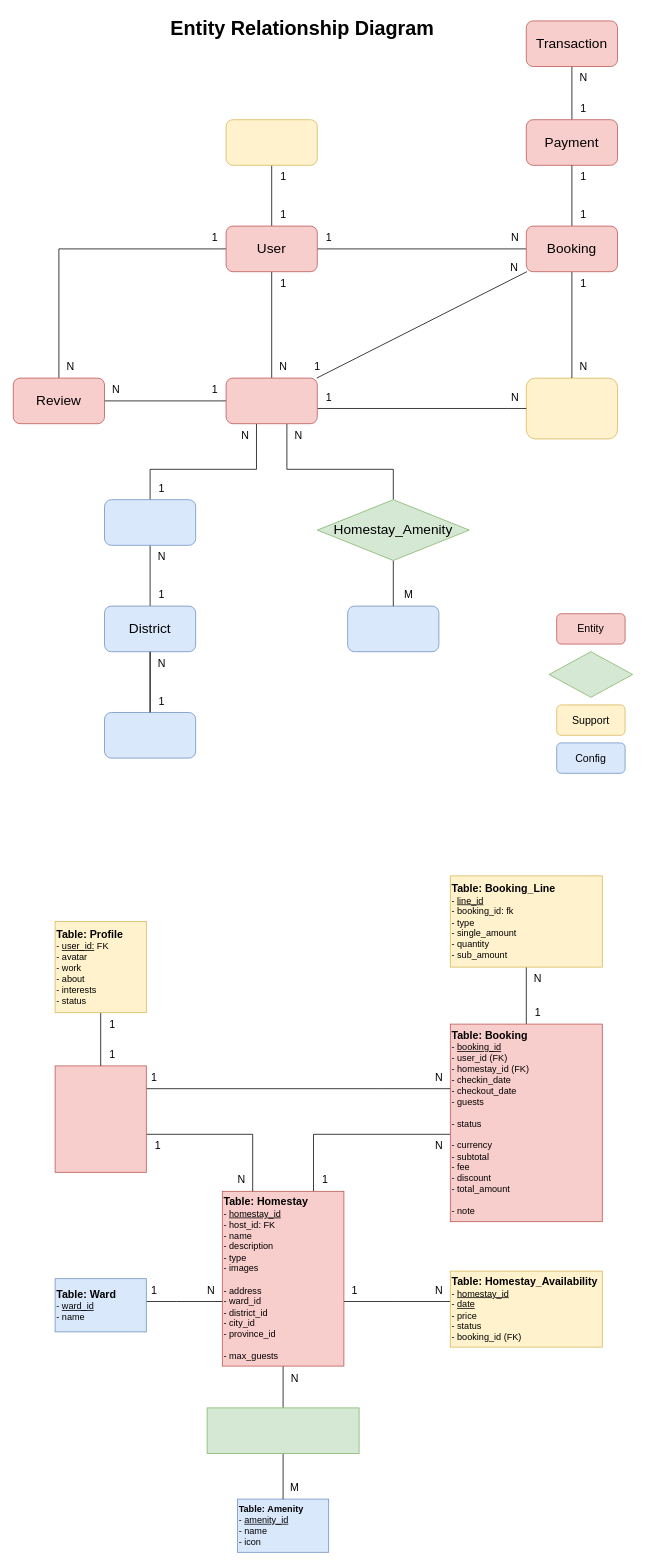
The diagram is 646 pixels wide and 1566 high, and some of its shapes have lost their labels. Each missing label, with the centre of its shape:
"Amenity" belongs at point (393, 628).
"Homestay" belongs at point (271, 400).
"Homestay Availability" belongs at point (572, 408).
"Profile" belongs at point (271, 142).
"Province" belongs at point (150, 735).
"Relationship" belongs at point (590, 674).
"Table: Homestay_ Amenity - a menity_id (FK) - homestay_id (FK)" belongs at point (282, 1430).
"Table: User - user_id - username - password - email - fullname - type - status" belongs at point (100, 1118).
"Ward" belongs at point (150, 522).
